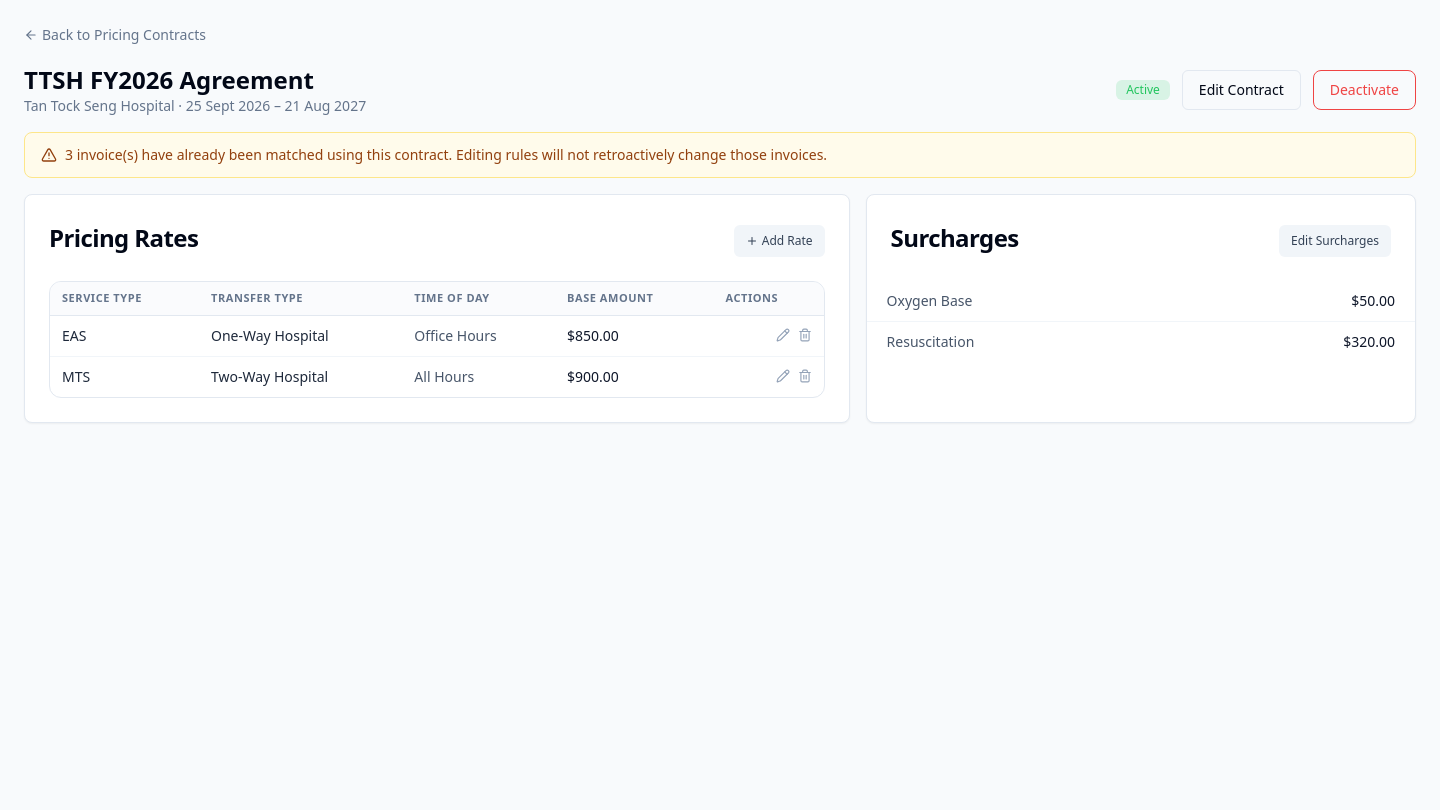
ContractDetailPage - matched-invoice acknowledgment › re-sends the deactivate with acknowledge_matched_invoices once confirmed
Expected: the heading "TTSH FY2026 Agreement" is shown, [24,63,314,96]
What coordinates should you click on to do the following:
click the button "Deactivate"
I would click on:
 (1364, 90)
Its box is [1313,70,1416,110].
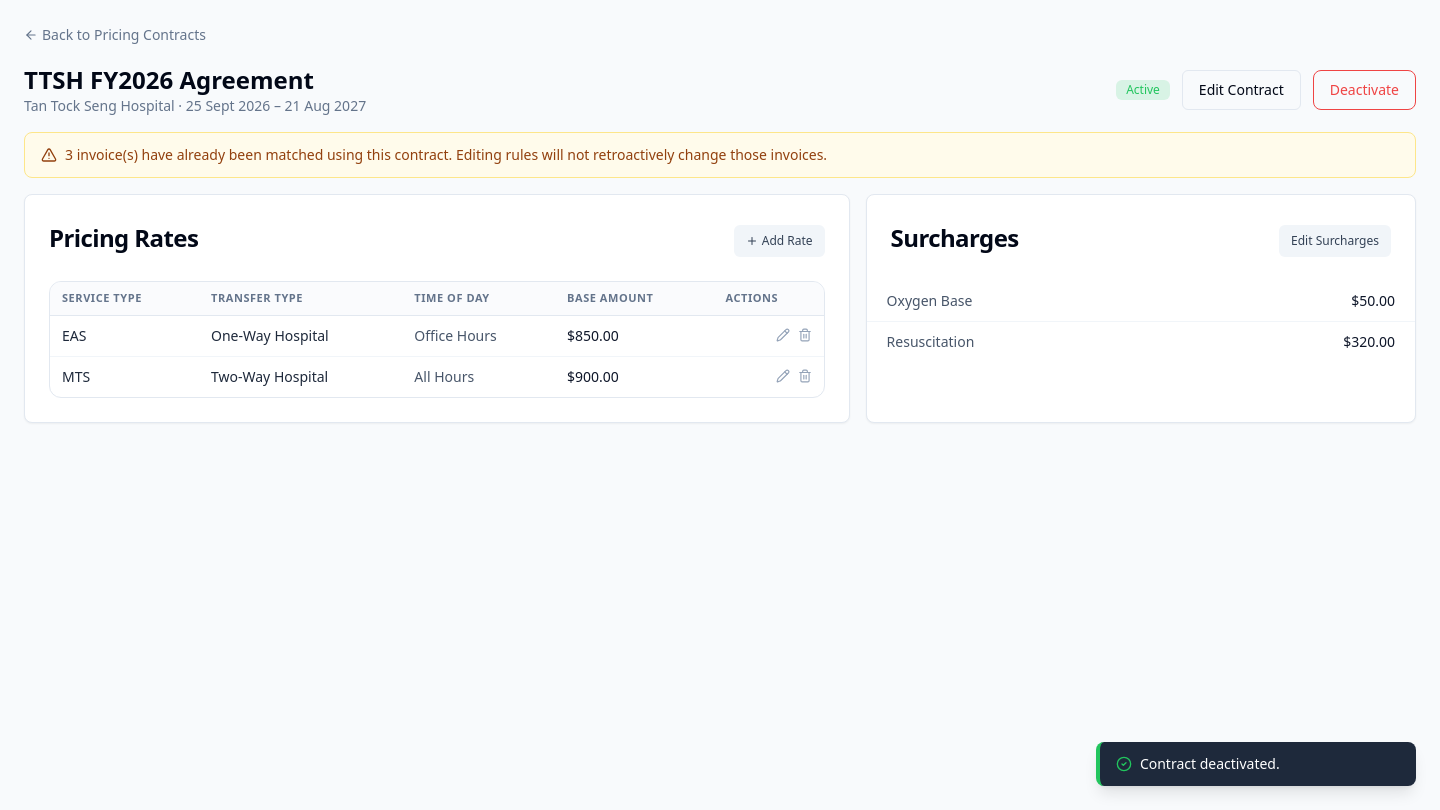
Now the text "Contract deactivated." is shown, box [1140,754,1280,773]
